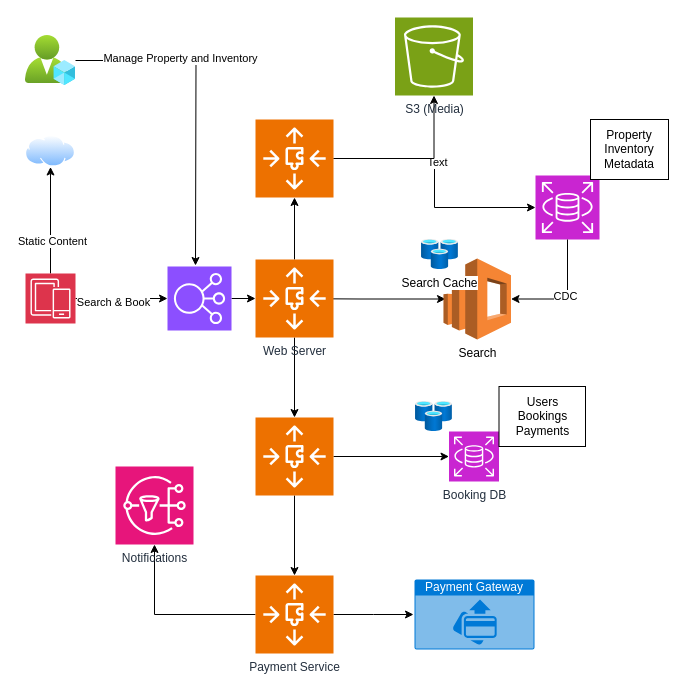
Image size: 686x692. Some labels were removed from this diagram. The box of each missing label's shape, as (x1, y1, x2, y2) in pixels:
Booking Service: (254, 416, 334, 496)
CDN: (25, 135, 75, 166)
LB: (166, 266, 232, 330)
Property SQL DB: (534, 174, 600, 240)
Proprty Manager Svc: (254, 118, 334, 198)
